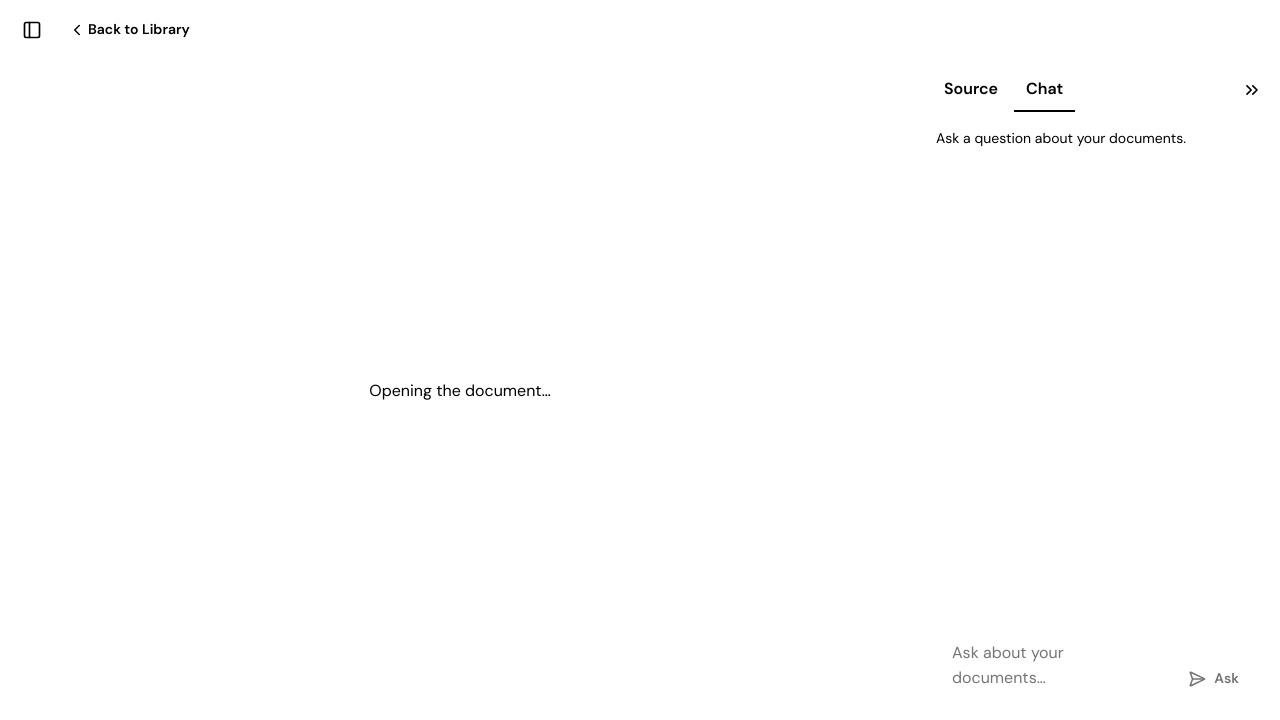
reader mode (evidence reader, Task 5) › a reader route hides the sidebar, the top bar and the tabs until the toggle opens the sidebar
Click the button named "Show sidebar" at (32, 30), box [12,10,52,50]
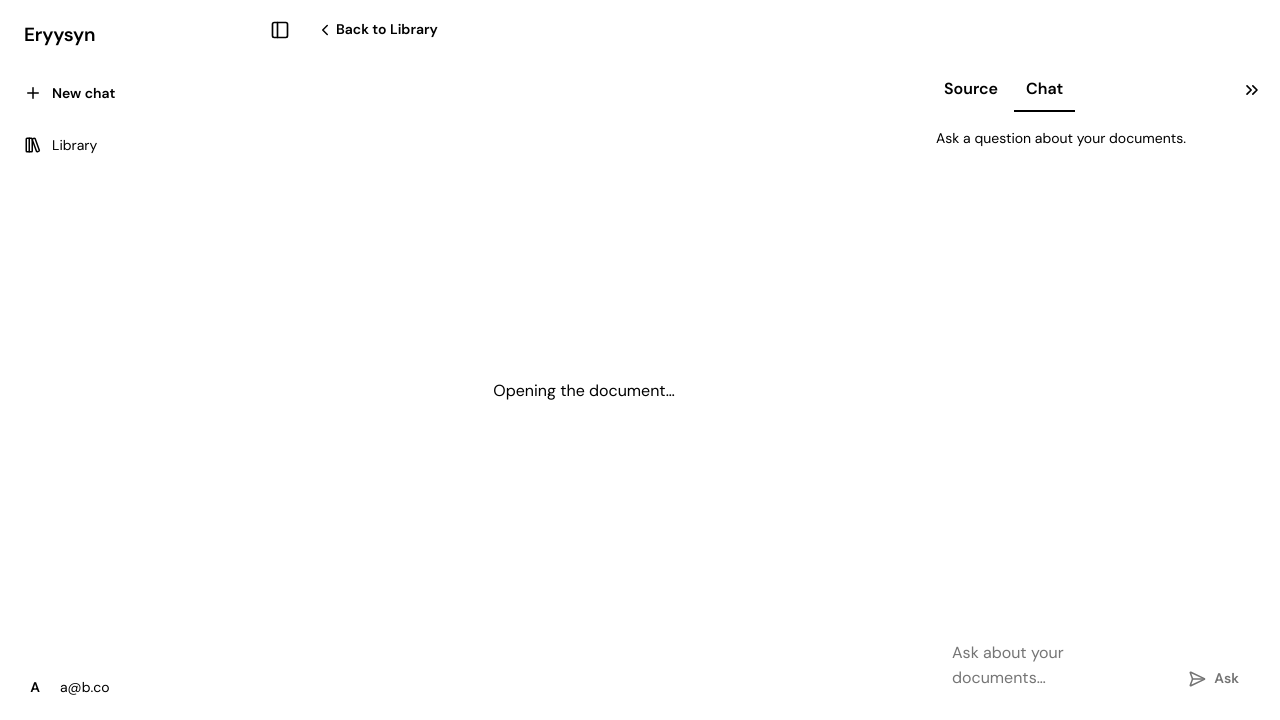
Check: the navigation bar named "Main" is shown, box [24,84,115,154]
